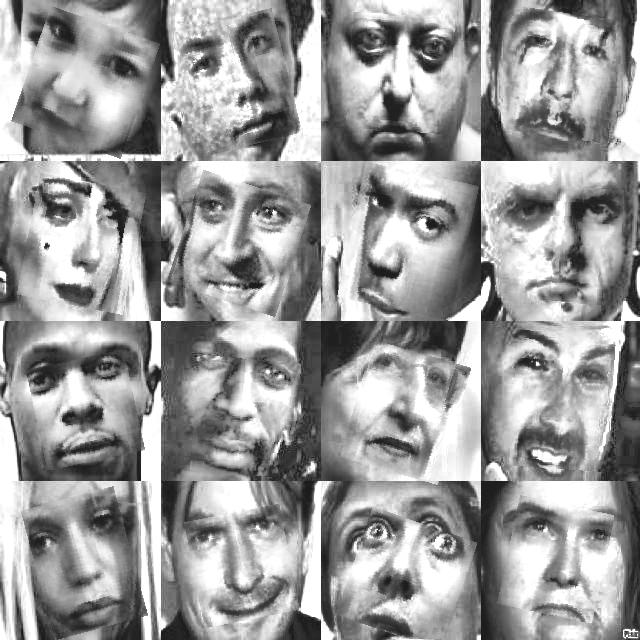angry: (344, 168, 472, 316), (497, 184, 623, 304)
fear: (343, 514, 469, 640), (512, 332, 614, 470)
happy: (174, 178, 304, 310), (188, 508, 294, 624)
neutral: (20, 14, 152, 152), (29, 491, 141, 635), (182, 13, 296, 151), (348, 346, 464, 480), (193, 357, 299, 477), (348, 14, 454, 132), (31, 354, 141, 466)
sad: (23, 177, 141, 311), (510, 10, 614, 140), (502, 500, 609, 619)
